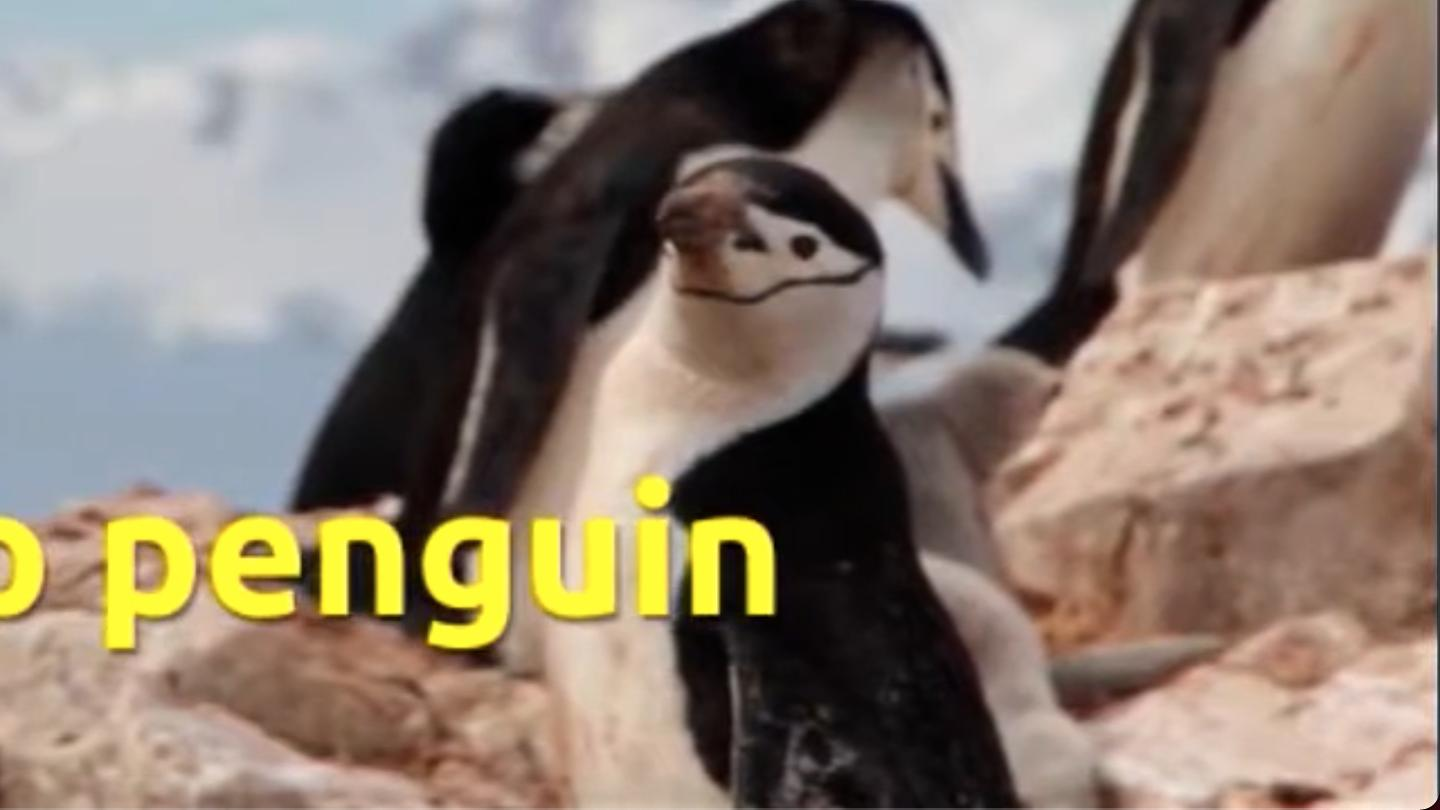Chinstrap Penguin: (386, 0, 1016, 550), (1013, 0, 1440, 493), (587, 129, 916, 472), (0, 0, 158, 476)
